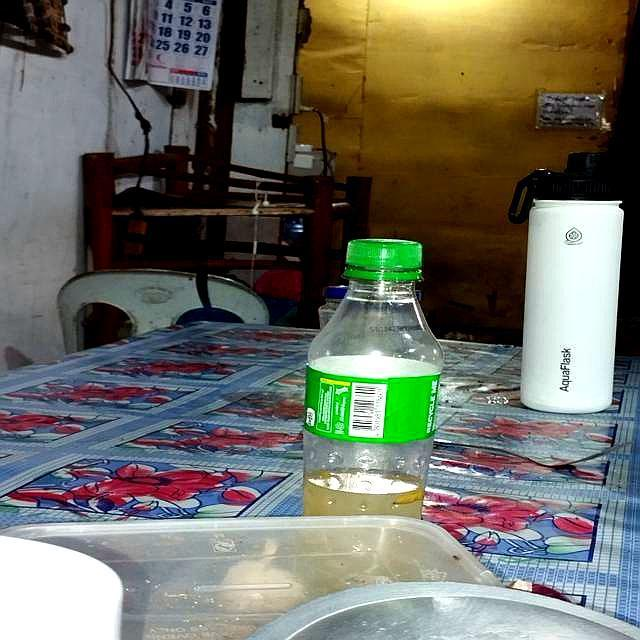Non-biodegradable: (307, 238, 451, 517)
